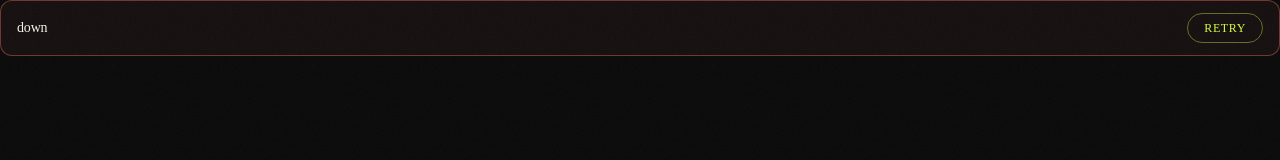
<BookingsSection /> › error state with Retry; genuine empty state otherwise
Expected: the message shows "down", [17,20,47,35]
Click the button "Retry": (1225, 28) [1187,13,1263,43]
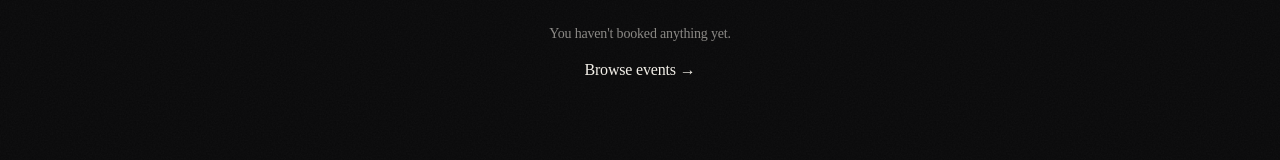
Expected: the text "You haven't booked anything yet." is shown, [549,26,731,41]
